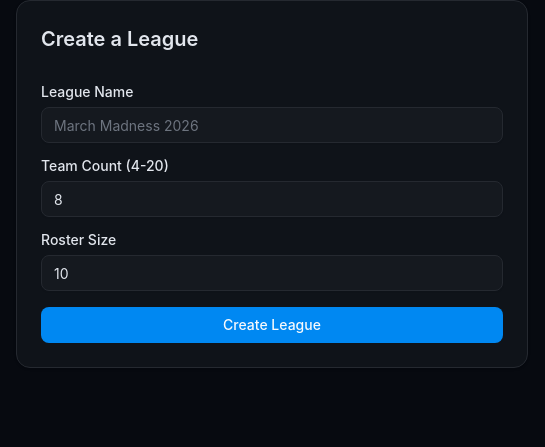
it: CreateLeague page › shows a validation error when team count is less than 4
This screenshot has width=545, height=447.
Replace the text in the number field labelled "Team Count (4-20)" with "3" at (272, 199), box [41, 181, 503, 217]
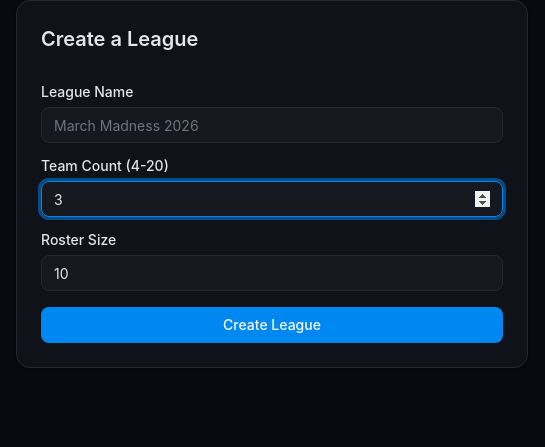
Type "Bad League" into the field labelled "League Name" at (272, 125), box [41, 107, 503, 143]
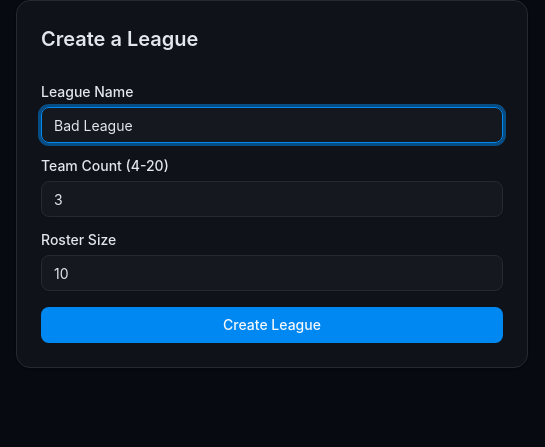
Click the button "Create League" at (272, 325), box [41, 307, 503, 343]
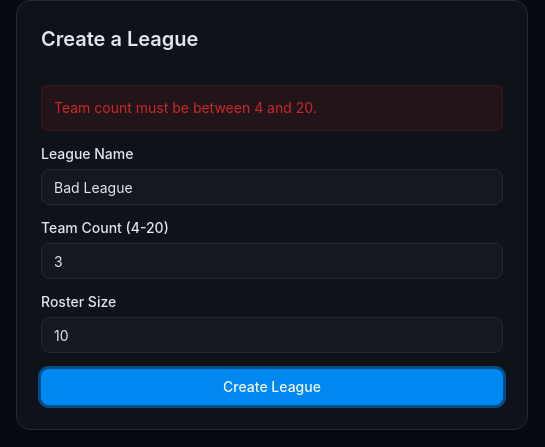
Now the message "Team count must be between 4 and 20." is shown, box [41, 85, 503, 131]
